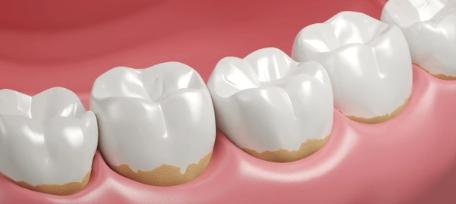Plaque: (106, 150, 215, 188), (1, 164, 95, 194), (240, 136, 332, 162), (342, 97, 413, 125), (426, 66, 456, 82)
